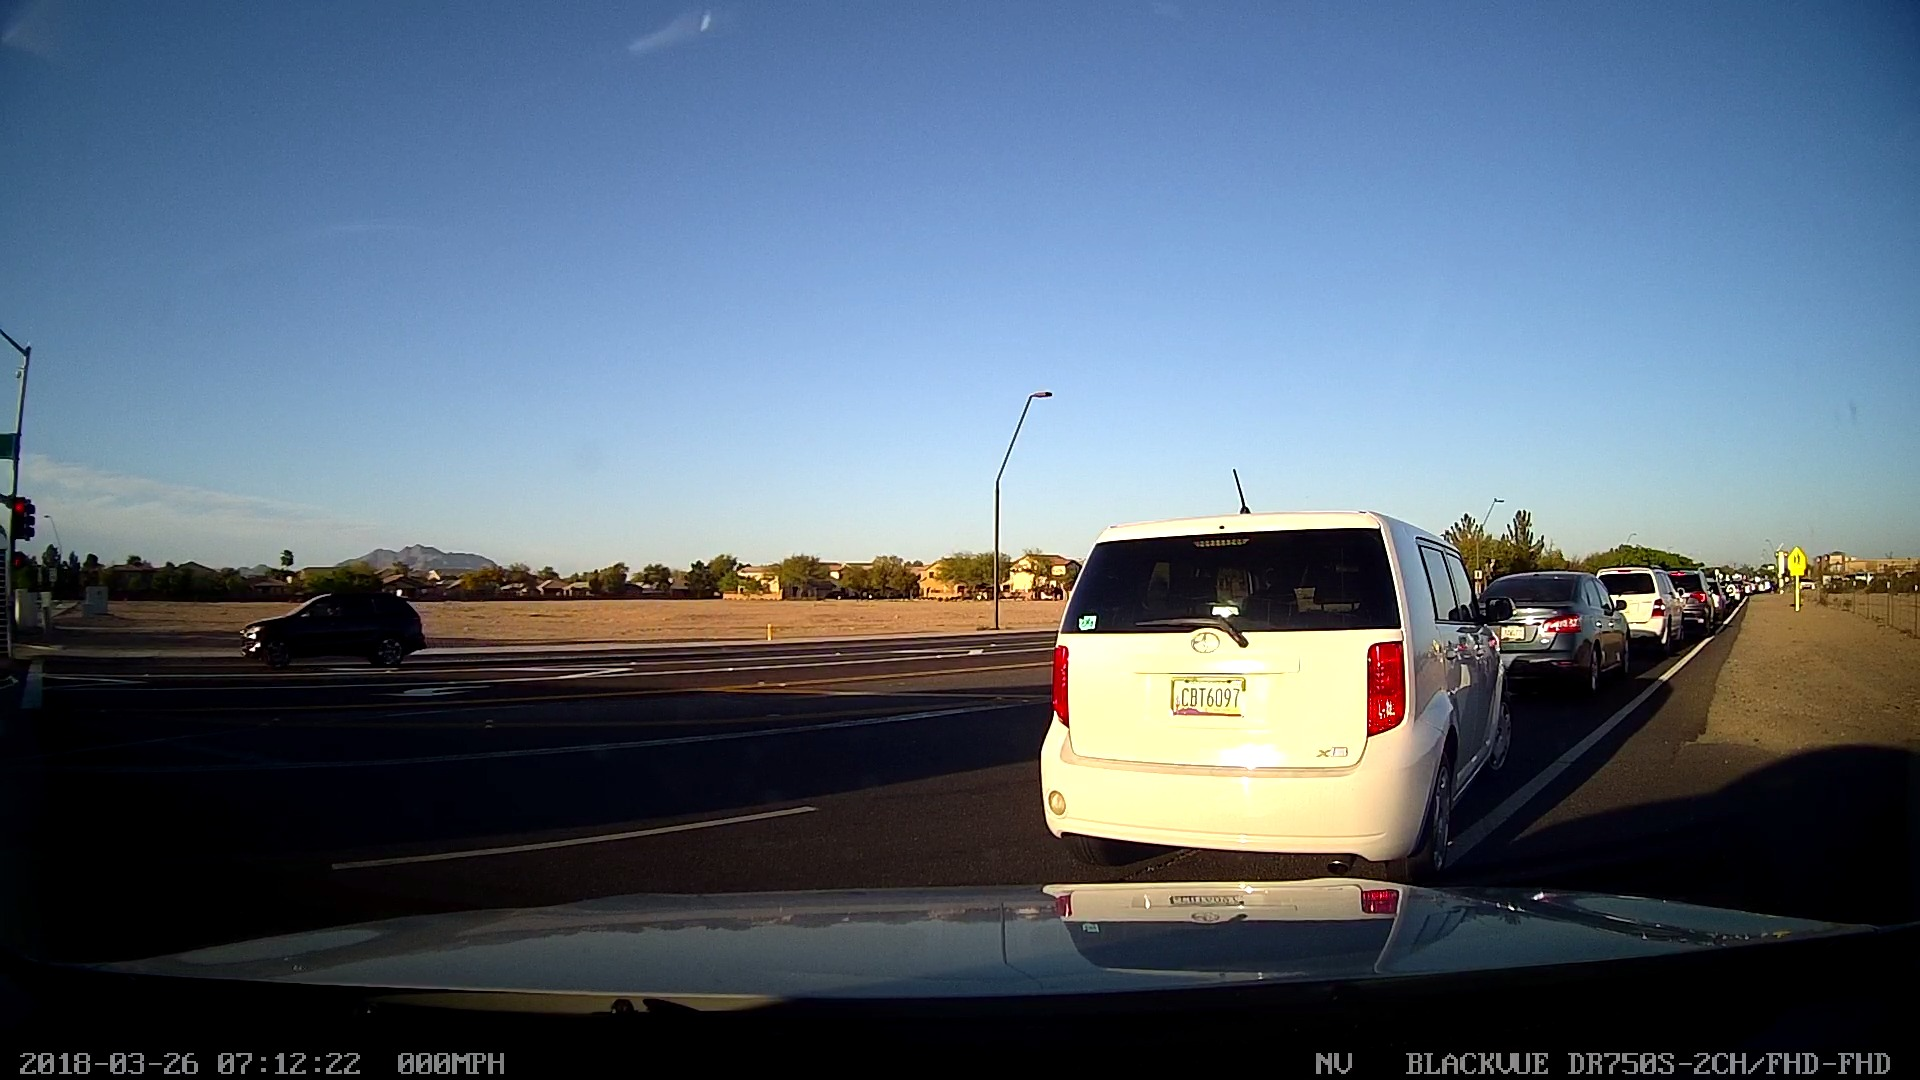plate: (1166, 673, 1246, 718)
vehicle: (1034, 510, 1510, 856), (1483, 566, 1627, 695), (238, 582, 420, 667), (1599, 561, 1677, 651)
